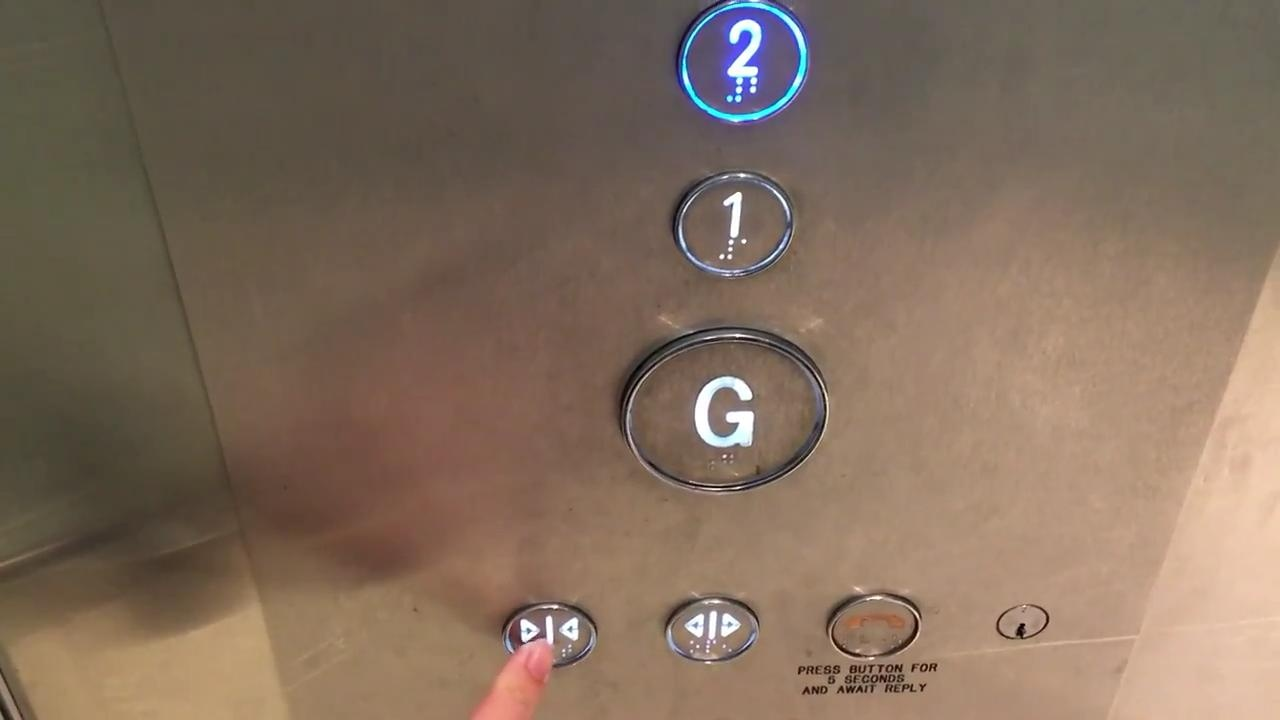1: (665, 164, 800, 285)
2: (669, 1, 815, 129)
G: (612, 320, 834, 499)
call: (820, 587, 926, 665)
close: (498, 597, 601, 676)
keyhole: (991, 598, 1053, 646)
open: (658, 590, 764, 668)
